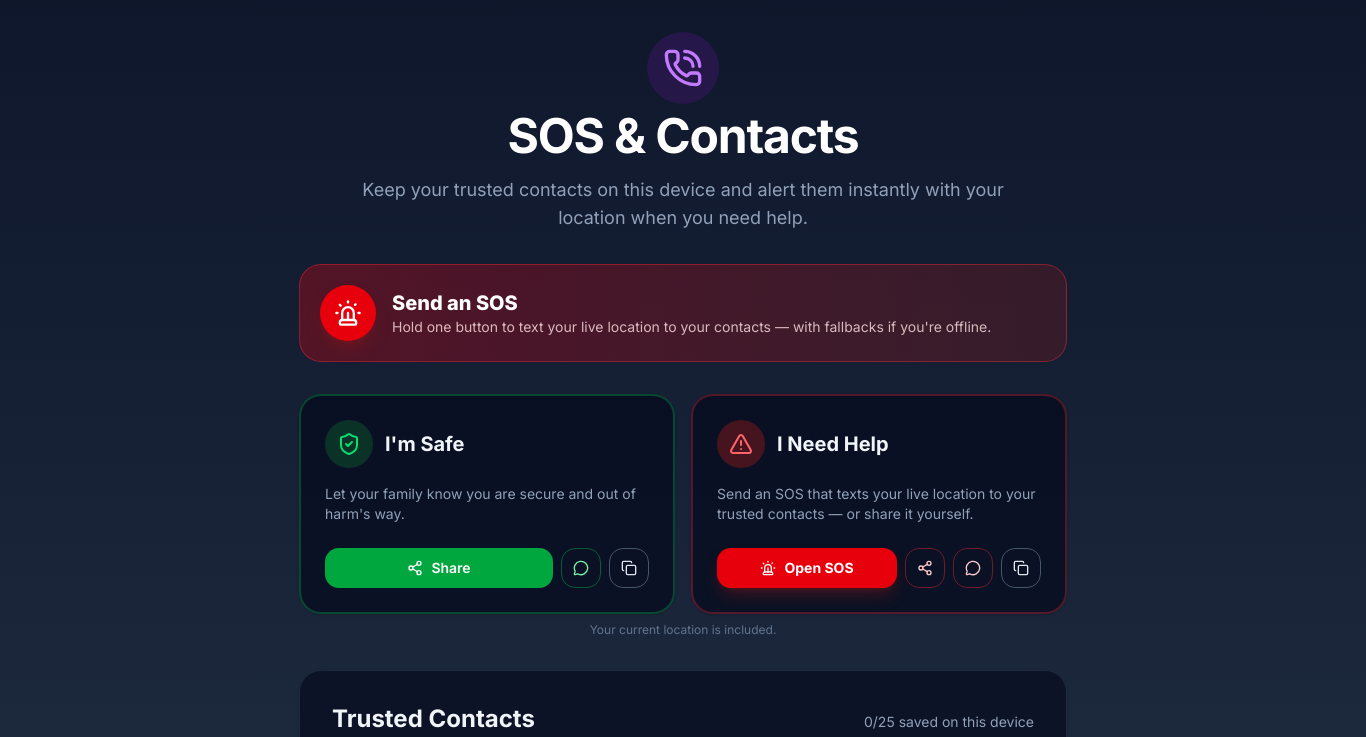
Test: ContactsView › copies the status message with the current location and confirms inline
Click the button named "Copy “I'm safe” message".
click(629, 568)  # box [609,548,649,588]
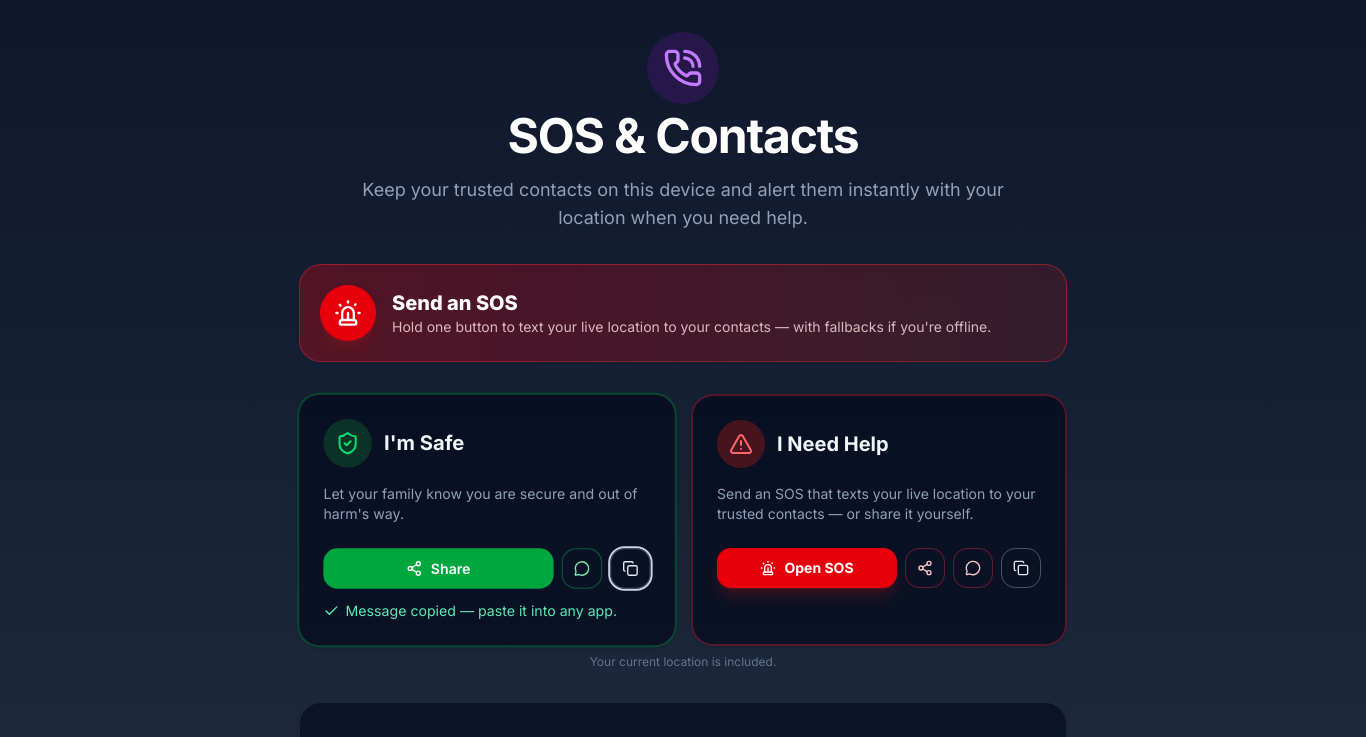
Expected: the text "Your current location is included." is shown, [590,654,776,669]
Expected: the text "Message copied — paste it into any app." is shown, [323,601,651,621]
